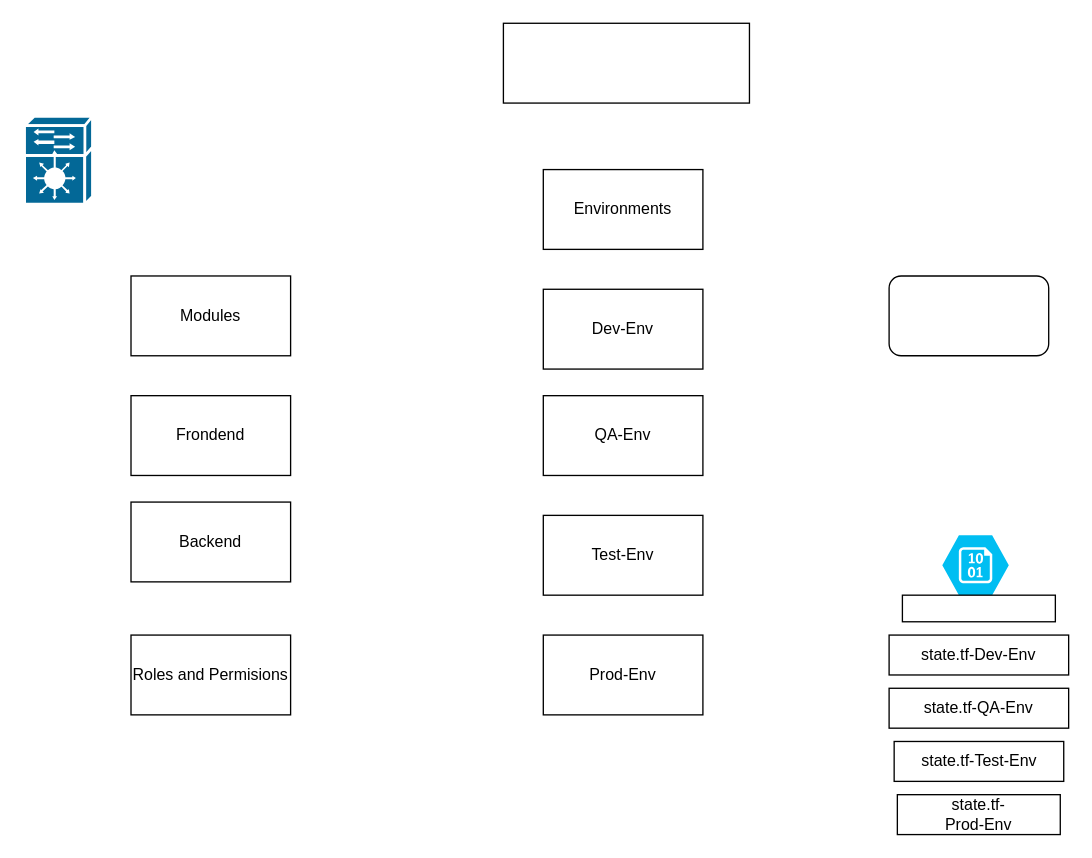
This 1092x858 diagram has some shape labels left out. Here are the shapes that lost their labels. From the top down, the centre of each, then its label:
At (625,62): "Modules Intrastructure".
At (968,315): "Account".
At (978,608): "Storage Blob".
